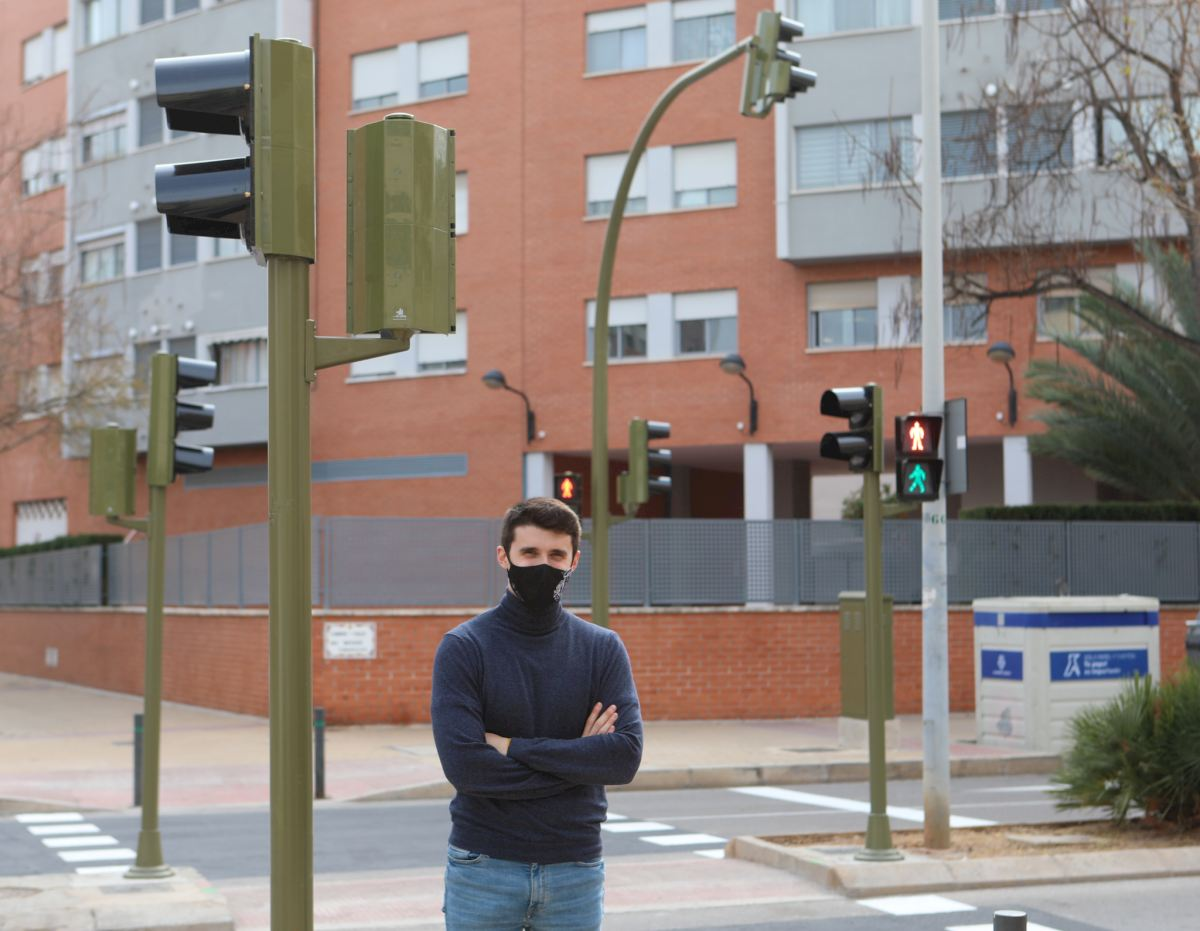Persona: (424, 488, 632, 931)
Poste: (262, 250, 322, 931)
Semaforo: (144, 36, 321, 264), (338, 106, 456, 337)
